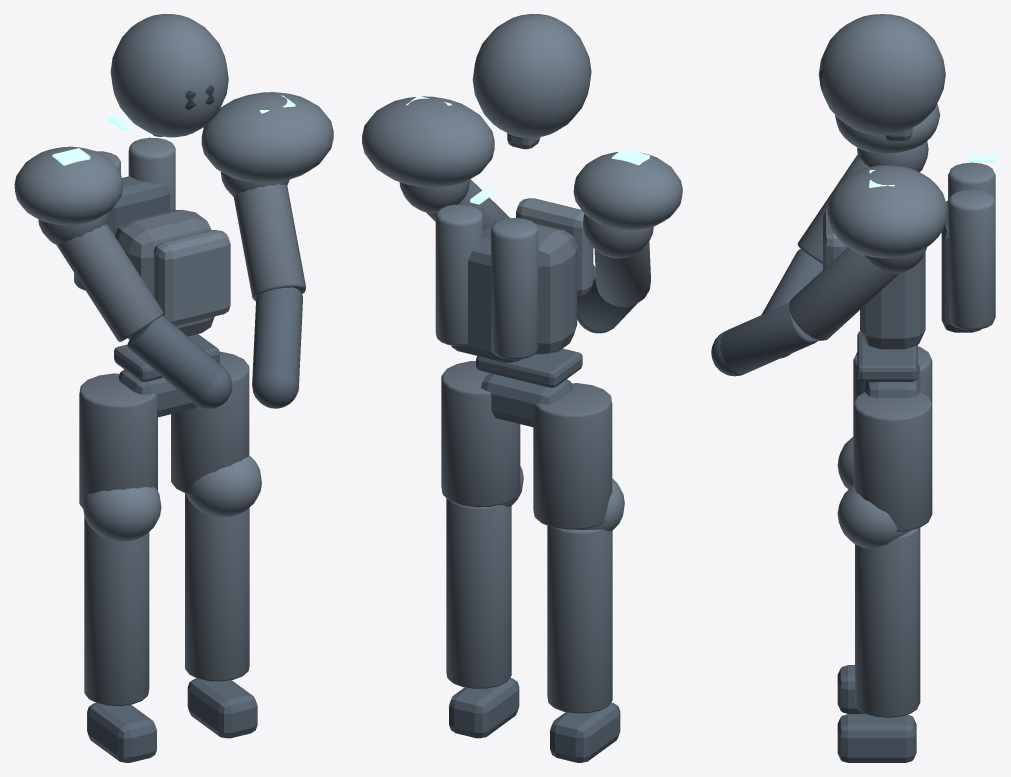
Rendered from p1_player_boarder.glb.
3 renders of one model, left to right at view 1: azimuth 30°, elevation 25°; view 2: azimuth 150°, elevation 25°; view 3: azimuth 270°, elevation 25°, orthographic.
Parts seen in each view (by area): view 1: helmet, shin_-1, shin_1, pauldron_R, thigh_-1, thigh_1, pauldron_L, chest_plate, upperarm_L, upperarm_R, forearm_L, forearm_R (+13 smaller); view 2: shin_-1, shin_1, helmet, thigh_-1, pauldron_R, thigh_1, pack_tank_L, pauldron_L, pack_tank_R, torso, boot_R, boot_L (+10 smaller); view 3: helmet, shin_1, thigh_1, pauldron_R, pack_tank_R, upperarm_R, torso, forearm_R, boot_R, knee_1, belt, pauldron_L (+11 smaller).
Boxes of the visible parts, x1,y1,x2,y2 form: helmet: (110, 14, 228, 137); shin_-1: (84, 517, 149, 705); shin_1: (185, 493, 249, 681); pauldron_R: (201, 92, 333, 182); thigh_-1: (79, 373, 157, 508); thigh_1: (171, 351, 249, 494); pauldron_L: (14, 146, 122, 225); chest_plate: (153, 230, 230, 325); upperarm_L: (56, 223, 163, 341); upperarm_R: (233, 184, 306, 301); forearm_L: (127, 315, 222, 401); forearm_R: (252, 287, 302, 382); shin_-1: (547, 525, 612, 713); shin_1: (446, 498, 511, 688); helmet: (472, 14, 591, 137); thigh_-1: (533, 383, 612, 529); pauldron_R: (362, 96, 494, 187); thigh_1: (441, 361, 520, 507); pack_tank_L: (491, 218, 538, 359); pauldron_L: (573, 152, 682, 230); pack_tank_R: (435, 204, 482, 345); torso: (483, 220, 577, 354); boot_R: (449, 678, 519, 738); boot_L: (550, 702, 620, 762); helmet: (818, 14, 945, 135); shin_1: (855, 528, 920, 717); thigh_1: (853, 391, 932, 531); pauldron_R: (827, 165, 947, 258); pack_tank_R: (948, 189, 995, 329); upperarm_R: (789, 247, 899, 340); torso: (860, 252, 925, 349); forearm_R: (719, 303, 818, 373); boot_R: (837, 714, 916, 762); knee_1: (837, 486, 910, 548); belt: (857, 331, 917, 381); pauldron_L: (835, 104, 939, 153).
Bounding box in the file's own units: 0.67 × 1.5 × 0.5425.
